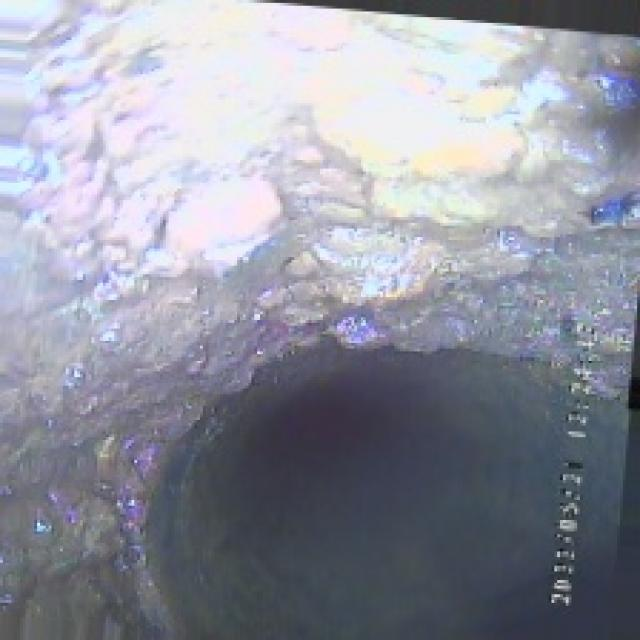encrustation: (69, 45, 548, 348)
